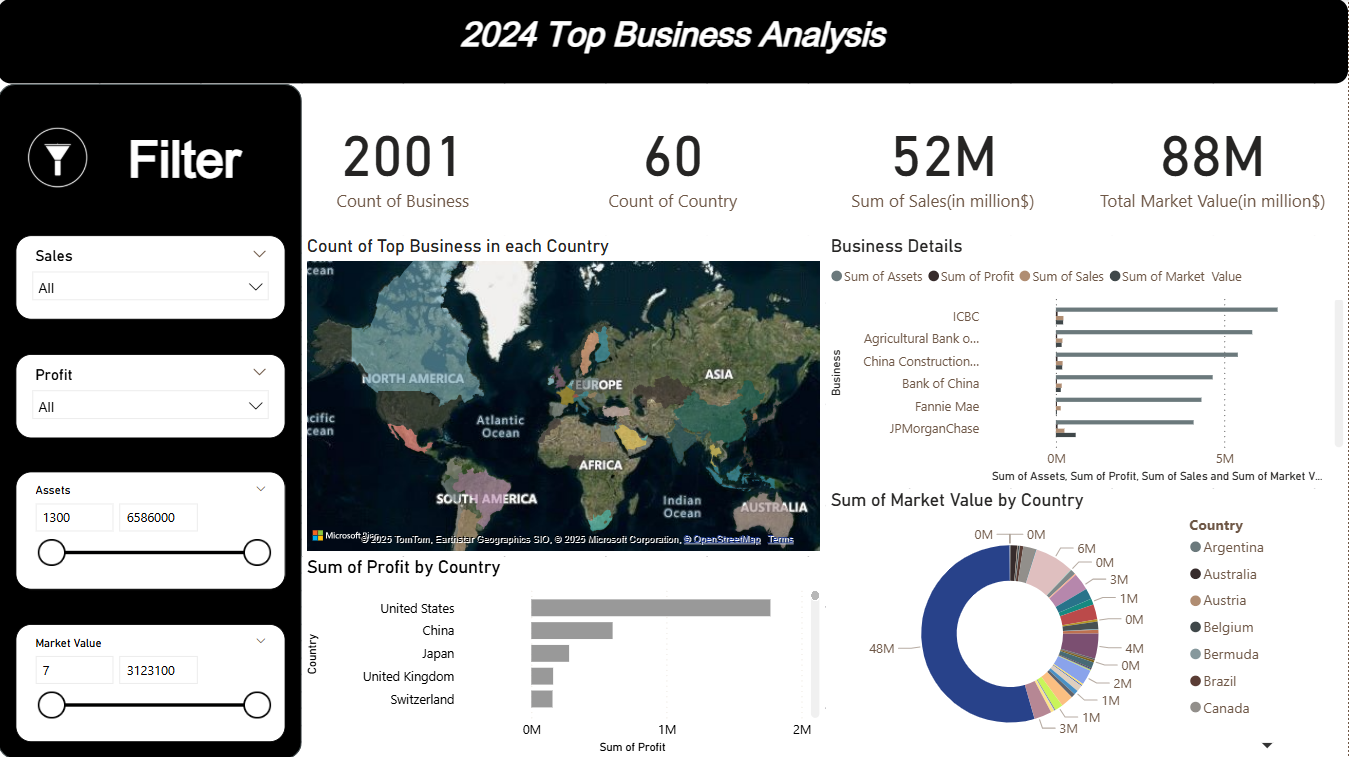

This screenshot's page, from the dashboard's own definition file:
{"tool":"powerbi","page":{"name":"Page 1","canvas":[1280,720],"ordinal":0},"visuals":[{"type":"textbox","box":[0,0,1280,80],"z":0},{"type":"card","fields":{"Values":["Count(Worksheet.Country)"]},"box":[512,80,256,144],"z":1000},{"type":"card","fields":{"Values":["Sum(Worksheet.Market  Value)"]},"box":[1024,80,256,144],"z":2000},{"type":"filledMap","title":"Count of Top Business in each Country","fields":{"Series":["Summary.Count of Business"],"Category":["Worksheet.Country"]},"box":[288,224,496,304],"z":3000},{"type":"card","fields":{"Values":["CountNonNull(Worksheet.Business)"]},"box":[256,80,256,144],"z":4000},{"type":"card","fields":{"Values":["Sum(Worksheet.Sales)"]},"box":[768,80,256,144],"z":5000},{"type":"shape","box":[0,80,288,640],"z":6000},{"type":"slicer","fields":{"Values":["Worksheet.Sales"]},"box":[16,224,256,80],"z":7000},{"type":"slicer","fields":{"Values":["Worksheet.Market  Value"]},"box":[16,592,256,112],"z":8000},{"type":"slicer","fields":{"Values":["Worksheet.Profit"]},"box":[16,336,256,80],"z":9000},{"type":"slicer","fields":{"Values":["Worksheet.Assets"]},"box":[16,448,256,112],"z":10000},{"type":"textbox","box":[80,112,192,96],"z":11000},{"type":"image","box":[16,112,80,80],"z":12000},{"type":"clusteredBarChart","fields":{"Category":["Worksheet.Country"],"Y":["Sum(Worksheet.Profit)"]},"box":[288,528,496,192],"z":13000},{"type":"clusteredBarChart","title":"Business Details","fields":{"Category":["Worksheet.Business"],"Y":["Sum(Worksheet.Assets)","Sum(Worksheet.Profit)","Sum(Worksheet.Sales)","Sum(Worksheet.Market  Value)"]},"box":[784,224,496,240],"z":13001},{"type":"donutChart","fields":{"Series":["Worksheet.Country"],"Y":["Sum(Worksheet.Market  Value)"]},"box":[784,464,496,256],"z":13002}]}

Visuals, with their boxes in screenshot pixels (x1, y1, x2, y2), scaled from the page's 1280x720 canvas onto the 1349x757 screenshot:
textbox: region(0, 0, 1348, 84)
card - Count(Worksheet.Country): region(540, 84, 809, 236)
card - Sum(Worksheet.Market  Value): region(1079, 84, 1348, 236)
"Count of Top Business in each Country" filledMap: region(304, 236, 826, 555)
card - CountNonNull(Worksheet.Business): region(270, 84, 540, 236)
card - Sum(Worksheet.Sales): region(809, 84, 1079, 236)
shape: region(0, 84, 304, 756)
slicer - Worksheet.Sales: region(17, 236, 287, 320)
slicer - Worksheet.Market  Value: region(17, 622, 287, 740)
slicer - Worksheet.Profit: region(17, 353, 287, 437)
slicer - Worksheet.Assets: region(17, 471, 287, 589)
textbox: region(84, 118, 287, 219)
image: region(17, 118, 101, 202)
clusteredBarChart - Worksheet.Country x Sum(Worksheet.Profit): region(304, 555, 826, 756)
"Business Details" clusteredBarChart: region(826, 236, 1348, 488)
donutChart - Worksheet.Country x Sum(Worksheet.Market  Value): region(826, 488, 1348, 756)
